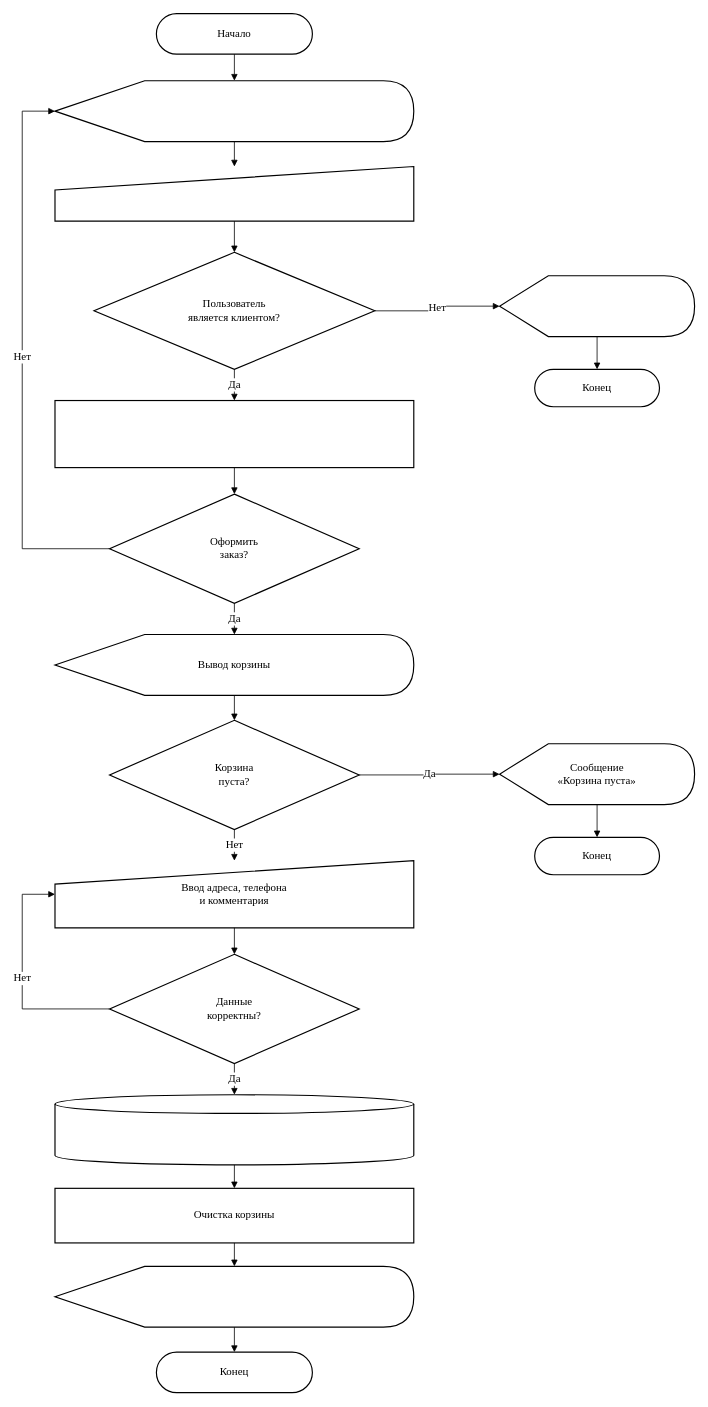
Image size: 708x1407. Some labels were removed from this diagram. Here are the shapes that lost their labels. From the top down, the box of each, then its label:
(54, 80, 414, 142): Вывод каталога дверей
(54, 166, 414, 221): Выбор двери
(499, 275, 695, 337): Вывод страницы входа
(54, 400, 414, 468): Добавление позиции в корзину
(54, 1094, 414, 1165): Запись заказа и позиций
(54, 1265, 414, 1327): Сообщение о номере заказа
